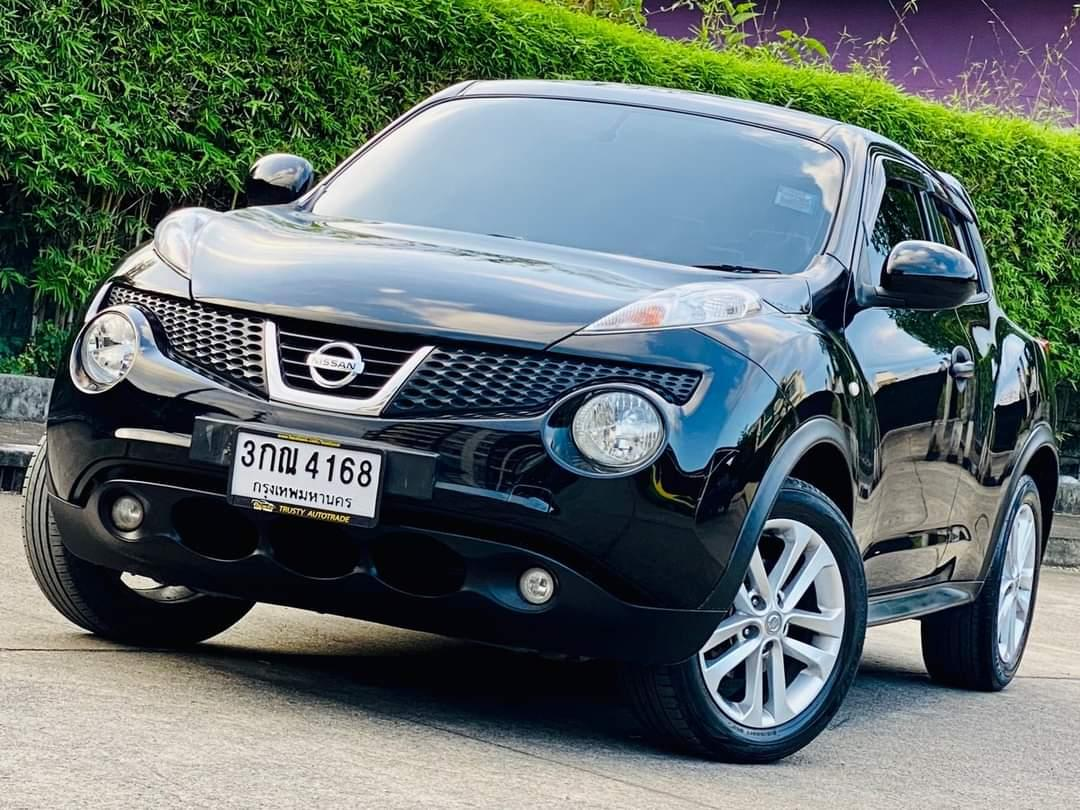license-plate: (224, 420, 394, 540)
